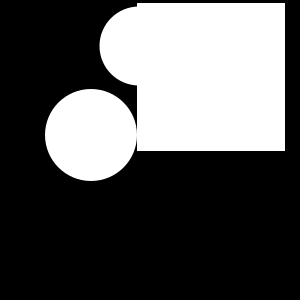circle: (137, 3, 285, 151)
rectangle: (45, 89, 137, 181), (100, 6, 178, 85)
